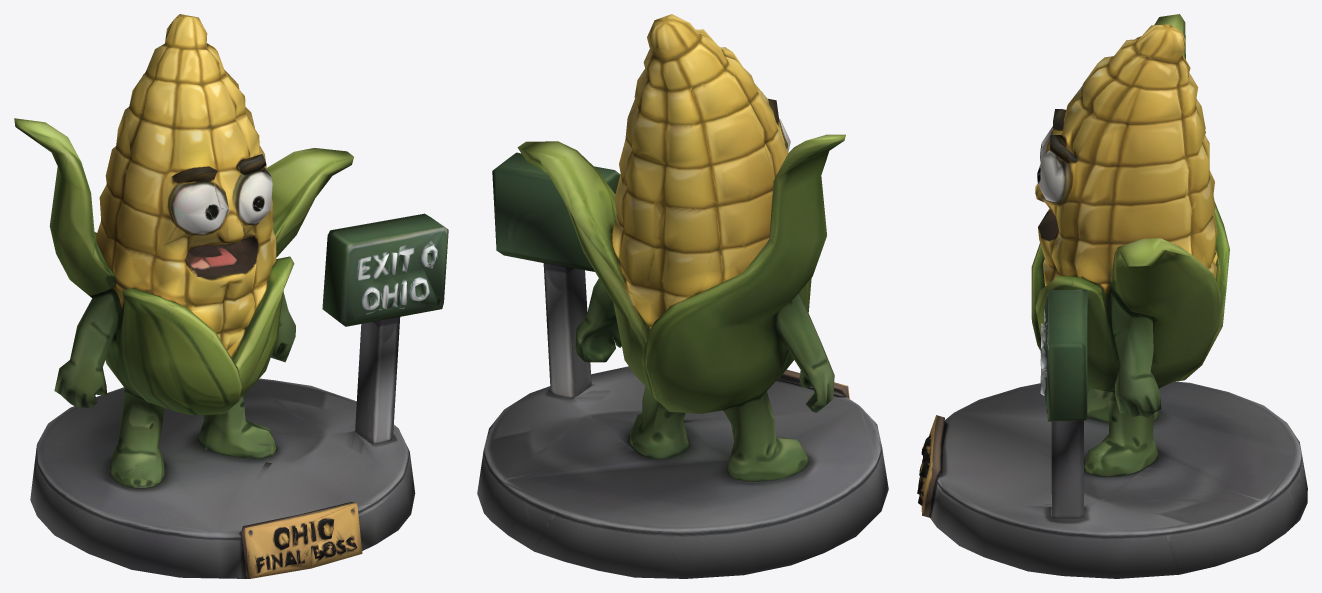
File: Ohio最终手办02.fbx
The picture shows the model from 3 angles, left to right: view 1: azimuth 30°, elevation 25°; view 2: azimuth 150°, elevation 25°; view 3: azimuth 270°, elevation 25°; orthographic projection. The views are drawn at different scales.
Parts seen in each view (by area): view 1: tripo_node_78e80606; view 2: tripo_node_78e80606; view 3: tripo_node_78e80606.
Part boxes in pixels (box(x1,y1,x2,y2)): tripo_node_78e80606: box(14, 14, 448, 578); tripo_node_78e80606: box(477, 14, 888, 578); tripo_node_78e80606: box(917, 14, 1307, 578).
Size of the model in its own units: 0.8344 by 0.9998 by 0.7564.
1 material, 1 textured.
